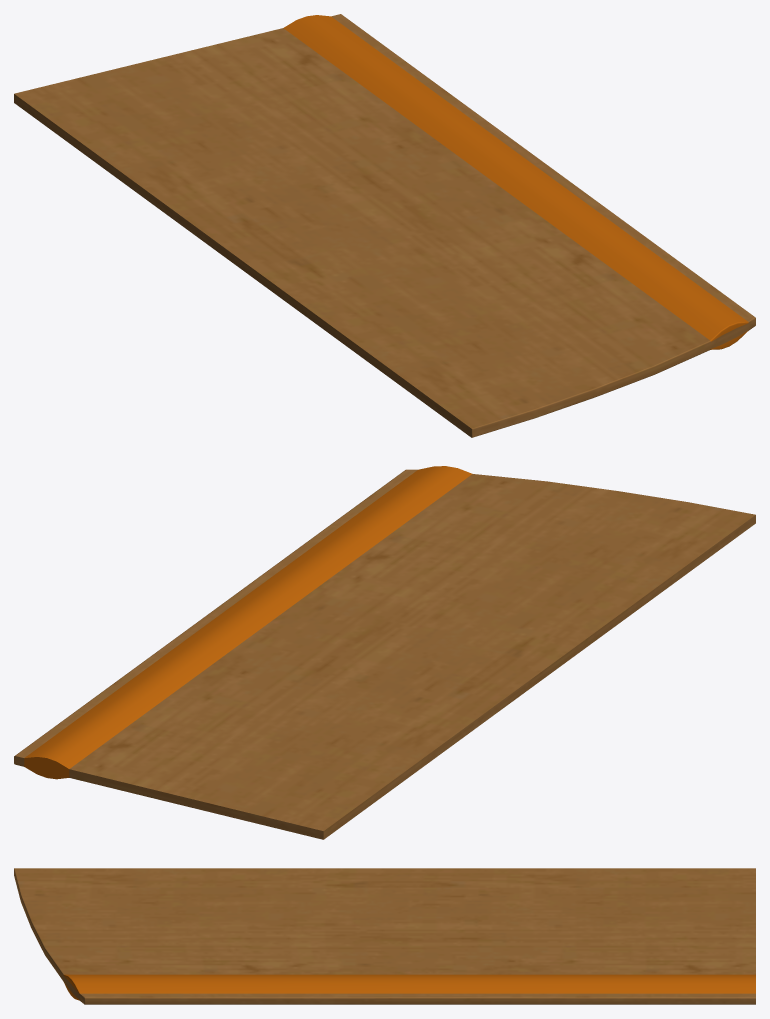
Rendered from ShelfWoodElement.obj.
3 views of the same model, one above another, from view 1: azimuth 30°, elevation 25°; view 2: azimuth 150°, elevation 25°; view 3: azimuth 270°, elevation 25° (orthographic). The views are drawn at different scales.
Visible parts, largest first — view 1: ShelfWoodElement; view 2: ShelfWoodElement; view 3: ShelfWoodElement.
Part boxes in pixels (x1,y1,x2,y2): ShelfWoodElement: [14, 14, 755, 437]; ShelfWoodElement: [14, 466, 755, 839]; ShelfWoodElement: [14, 868, 755, 1004].
Bounding box in the file's own units: 0.6262 × 0.0386 × 1.52.
2 materials, 1 textured.
